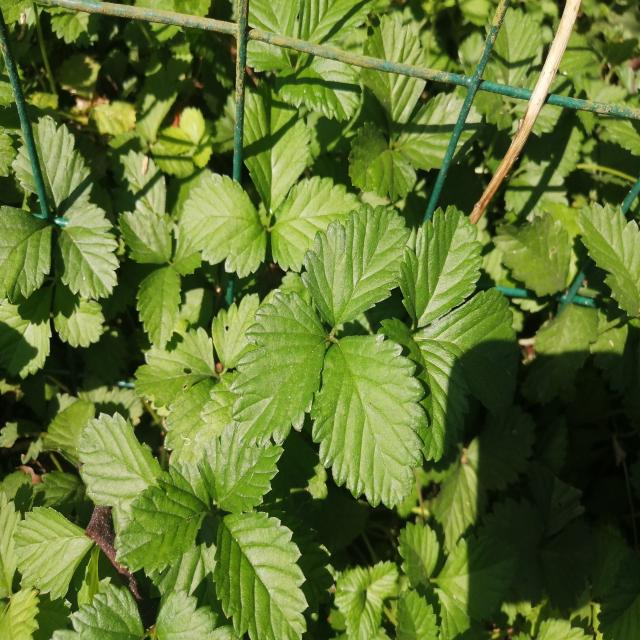Mock_strawberry: (252, 210, 437, 515), (85, 431, 337, 627)
